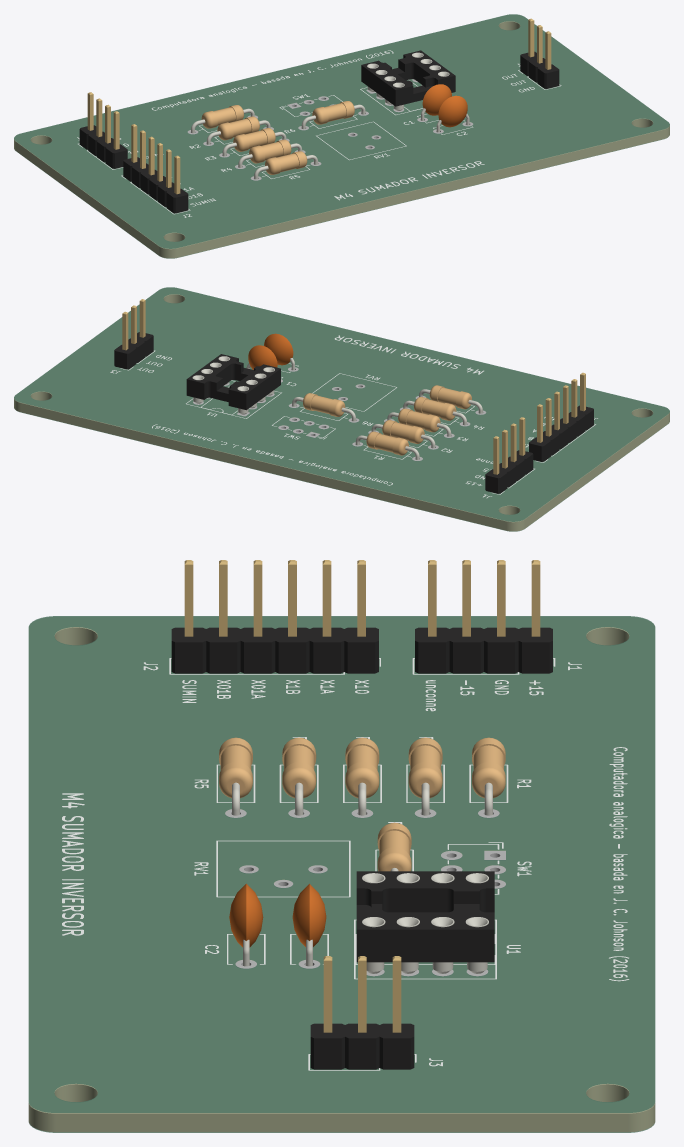
Rendered from placa.glb.
3 views of the same model, one above another, from view 1: azimuth 30°, elevation 25°; view 2: azimuth 150°, elevation 25°; view 3: azimuth 270°, elevation 25° (orthographic). The views are drawn at different scales.
Parts seen in each view (by area): view 1: =>[0:1:1:18], =>[0:1:1:16], =>[0:1:1:3] (×6), =>[0:1:1:9], =>[0:1:1:7], =>[0:1:1:15], =>[0:1:1:13], =>[0:1:1:11], =>[0:1:1:5] (×2), =>[0:1:1:14], =>[0:1:1:17]; view 2: =>[0:1:1:18], =>[0:1:1:16], =>[0:1:1:3] (×6), =>[0:1:1:9], =>[0:1:1:7], =>[0:1:1:15], =>[0:1:1:13], =>[0:1:1:11], =>[0:1:1:5] (×2), =>[0:1:1:14], =>[0:1:1:17]; view 3: =>[0:1:1:18], =>[0:1:1:16], =>[0:1:1:7], =>[0:1:1:9], =>[0:1:1:3] (×6), =>[0:1:1:13], =>[0:1:1:15], =>[0:1:1:11], =>[0:1:1:5] (×2), =>[0:1:1:14].
Boxes of the visible parts, <box> form: =>[0:1:1:18]: <box>14,15,669,258</box>; =>[0:1:1:16]: <box>14,14,669,248</box>; =>[0:1:1:3] (×6): <box>191,101,365,179</box>; =>[0:1:1:9]: <box>361,50,455,110</box>; =>[0:1:1:7]: <box>123,124,188,213</box>; =>[0:1:1:15]: <box>77,50,561,217</box>; =>[0:1:1:13]: <box>79,92,127,168</box>; =>[0:1:1:11]: <box>520,18,559,88</box>; =>[0:1:1:5] (×2): <box>421,84,469,132</box>; =>[0:1:1:14]: <box>187,79,473,180</box>; =>[0:1:1:17]: <box>15,135,669,258</box>; =>[0:1:1:18]: <box>14,288,669,531</box>; =>[0:1:1:16]: <box>14,287,669,521</box>; =>[0:1:1:3] (×6): <box>292,385,482,459</box>; =>[0:1:1:9]: <box>186,354,280,414</box>; =>[0:1:1:7]: <box>529,372,593,461</box>; =>[0:1:1:15]: <box>110,335,597,498</box>; =>[0:1:1:13]: <box>485,417,533,493</box>; =>[0:1:1:11]: <box>114,299,153,369</box>; =>[0:1:1:5] (×2): <box>246,333,294,370</box>; =>[0:1:1:14]: <box>193,367,486,460</box>; =>[0:1:1:17]: <box>14,408,668,531</box>; =>[0:1:1:18]: <box>28,617,655,1132</box>; =>[0:1:1:16]: <box>28,616,655,1112</box>; =>[0:1:1:7]: <box>171,560,378,673</box>; =>[0:1:1:9]: <box>356,871,494,973</box>; =>[0:1:1:3] (×6): <box>219,737,505,871</box>; =>[0:1:1:13]: <box>415,560,552,673</box>; =>[0:1:1:15]: <box>62,658,629,1070</box>; =>[0:1:1:11]: <box>310,956,414,1069</box>; =>[0:1:1:5] (×2): <box>229,883,326,966</box>; =>[0:1:1:14]: <box>225,809,505,976</box>.
Size of the model in its own units: 0.0865 by 0.0123 by 0.0461.
